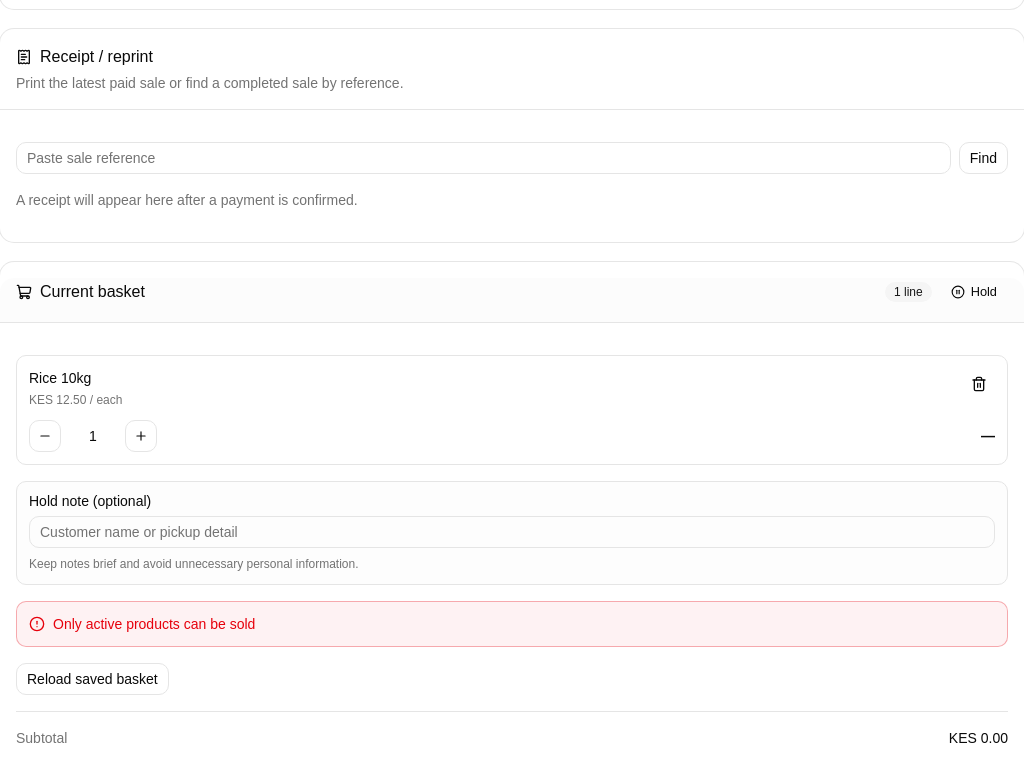
it: keeps an archived saved item removable through supervisor approval
(page scrolled)
Expected: the text "Only active products can be sold" is shown, 16,601 -> 1008,647
Click the button named "Remove Rice 10kg".
click(979, 384)  # box 963,368 -> 995,400
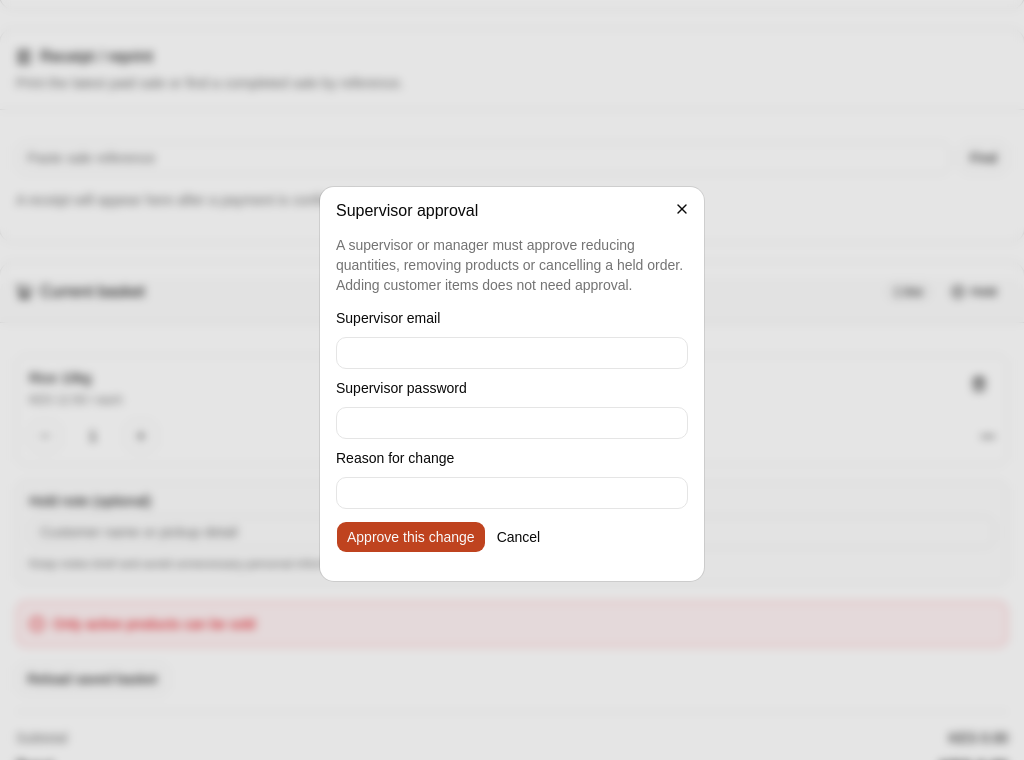
Result: the dialog is shown at 320,187 -> 704,581
Type "supervisor@example.test" into the field labelled "Supervisor email".
click(512, 353); type("supervisor@example.test")  # box 336,337 -> 688,369
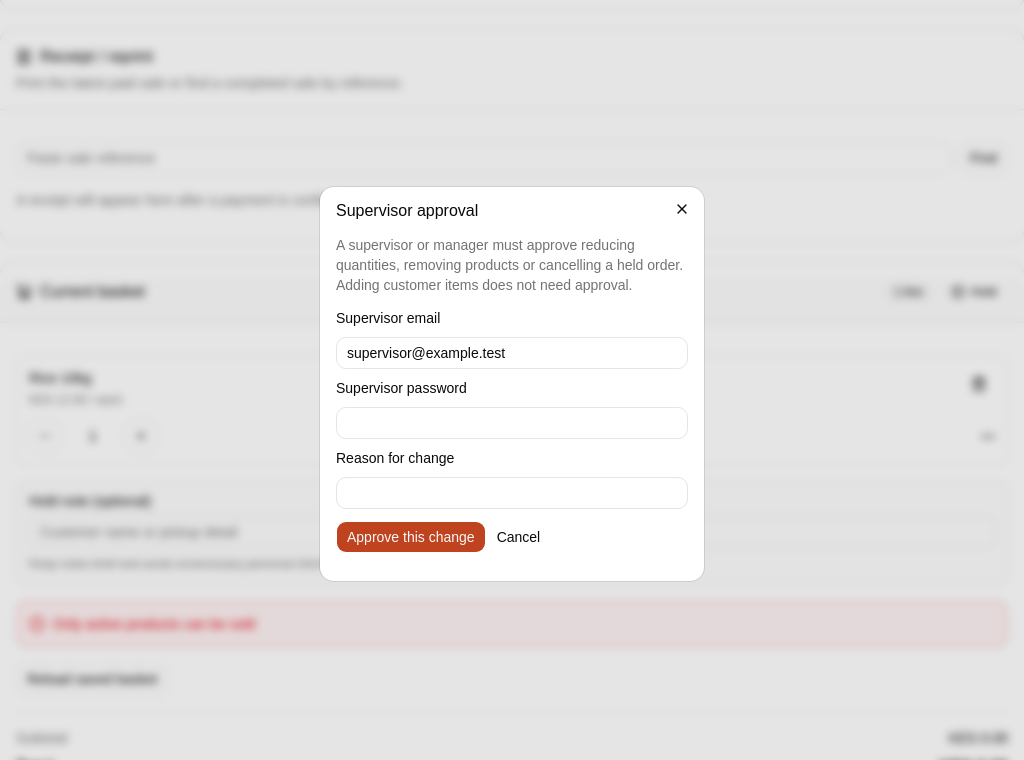
Type "Disposable-approval!" into the password field labelled "Supervisor password".
click(512, 423); type("Disposable-approval!")  # box 336,407 -> 688,439
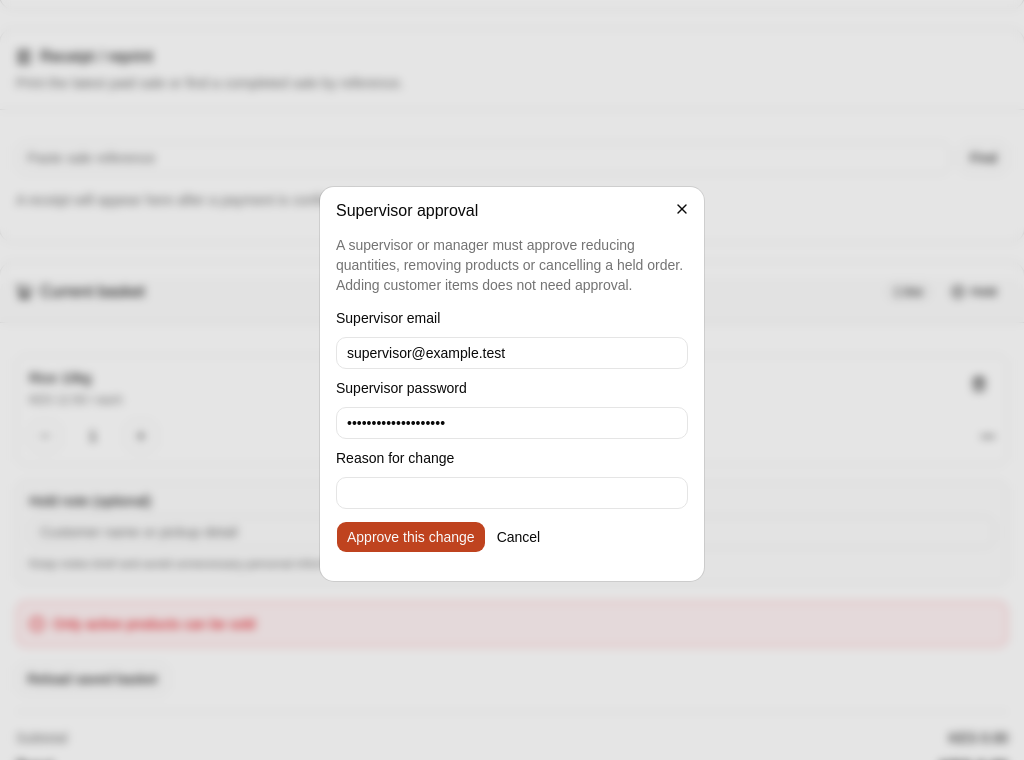
Type "Product archived while basket held" into the field labelled "Reason for change".
click(512, 493); type("Product archived while basket held")  # box 336,477 -> 688,509
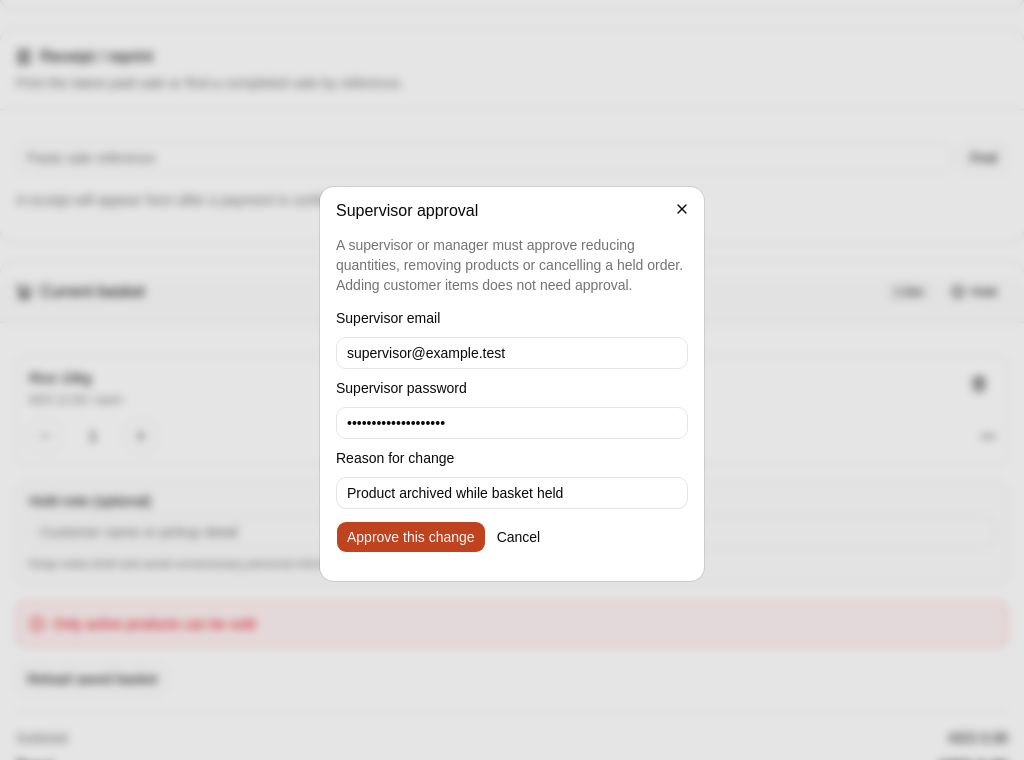
Click the button "Approve this change".
click(411, 537)  # box 336,521 -> 486,553
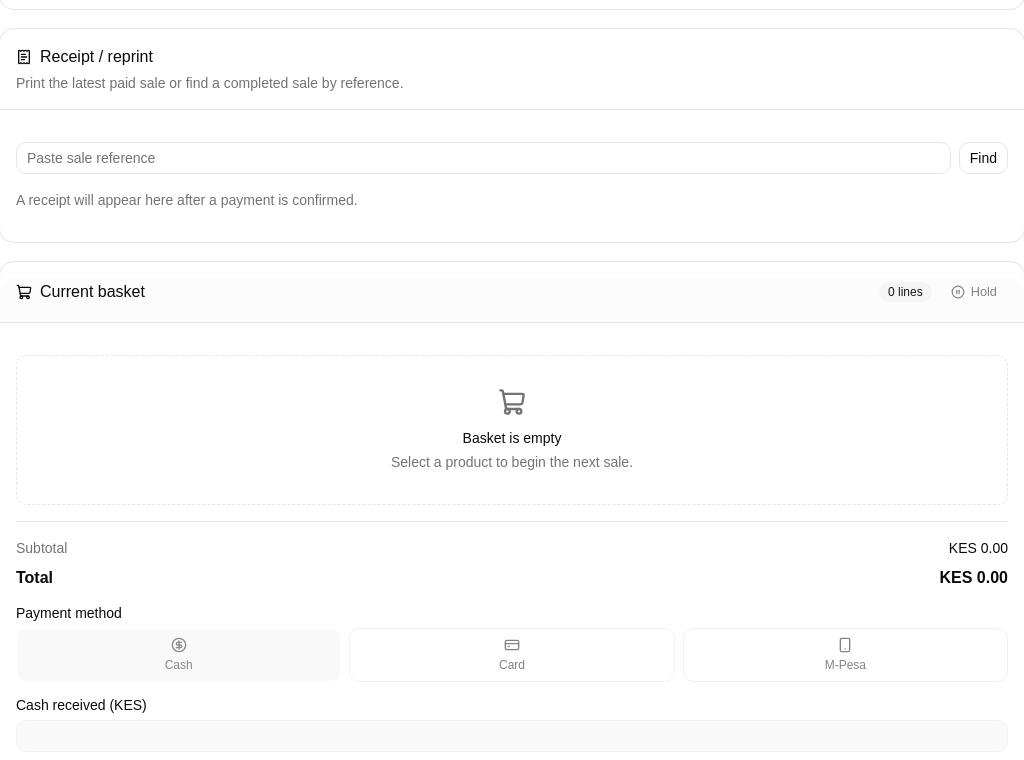
Result: the text "Basket is empty" is shown at 463,430 -> 561,446
